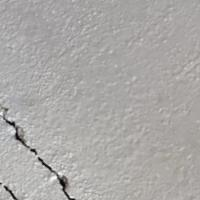crack: (0, 85, 74, 199)
